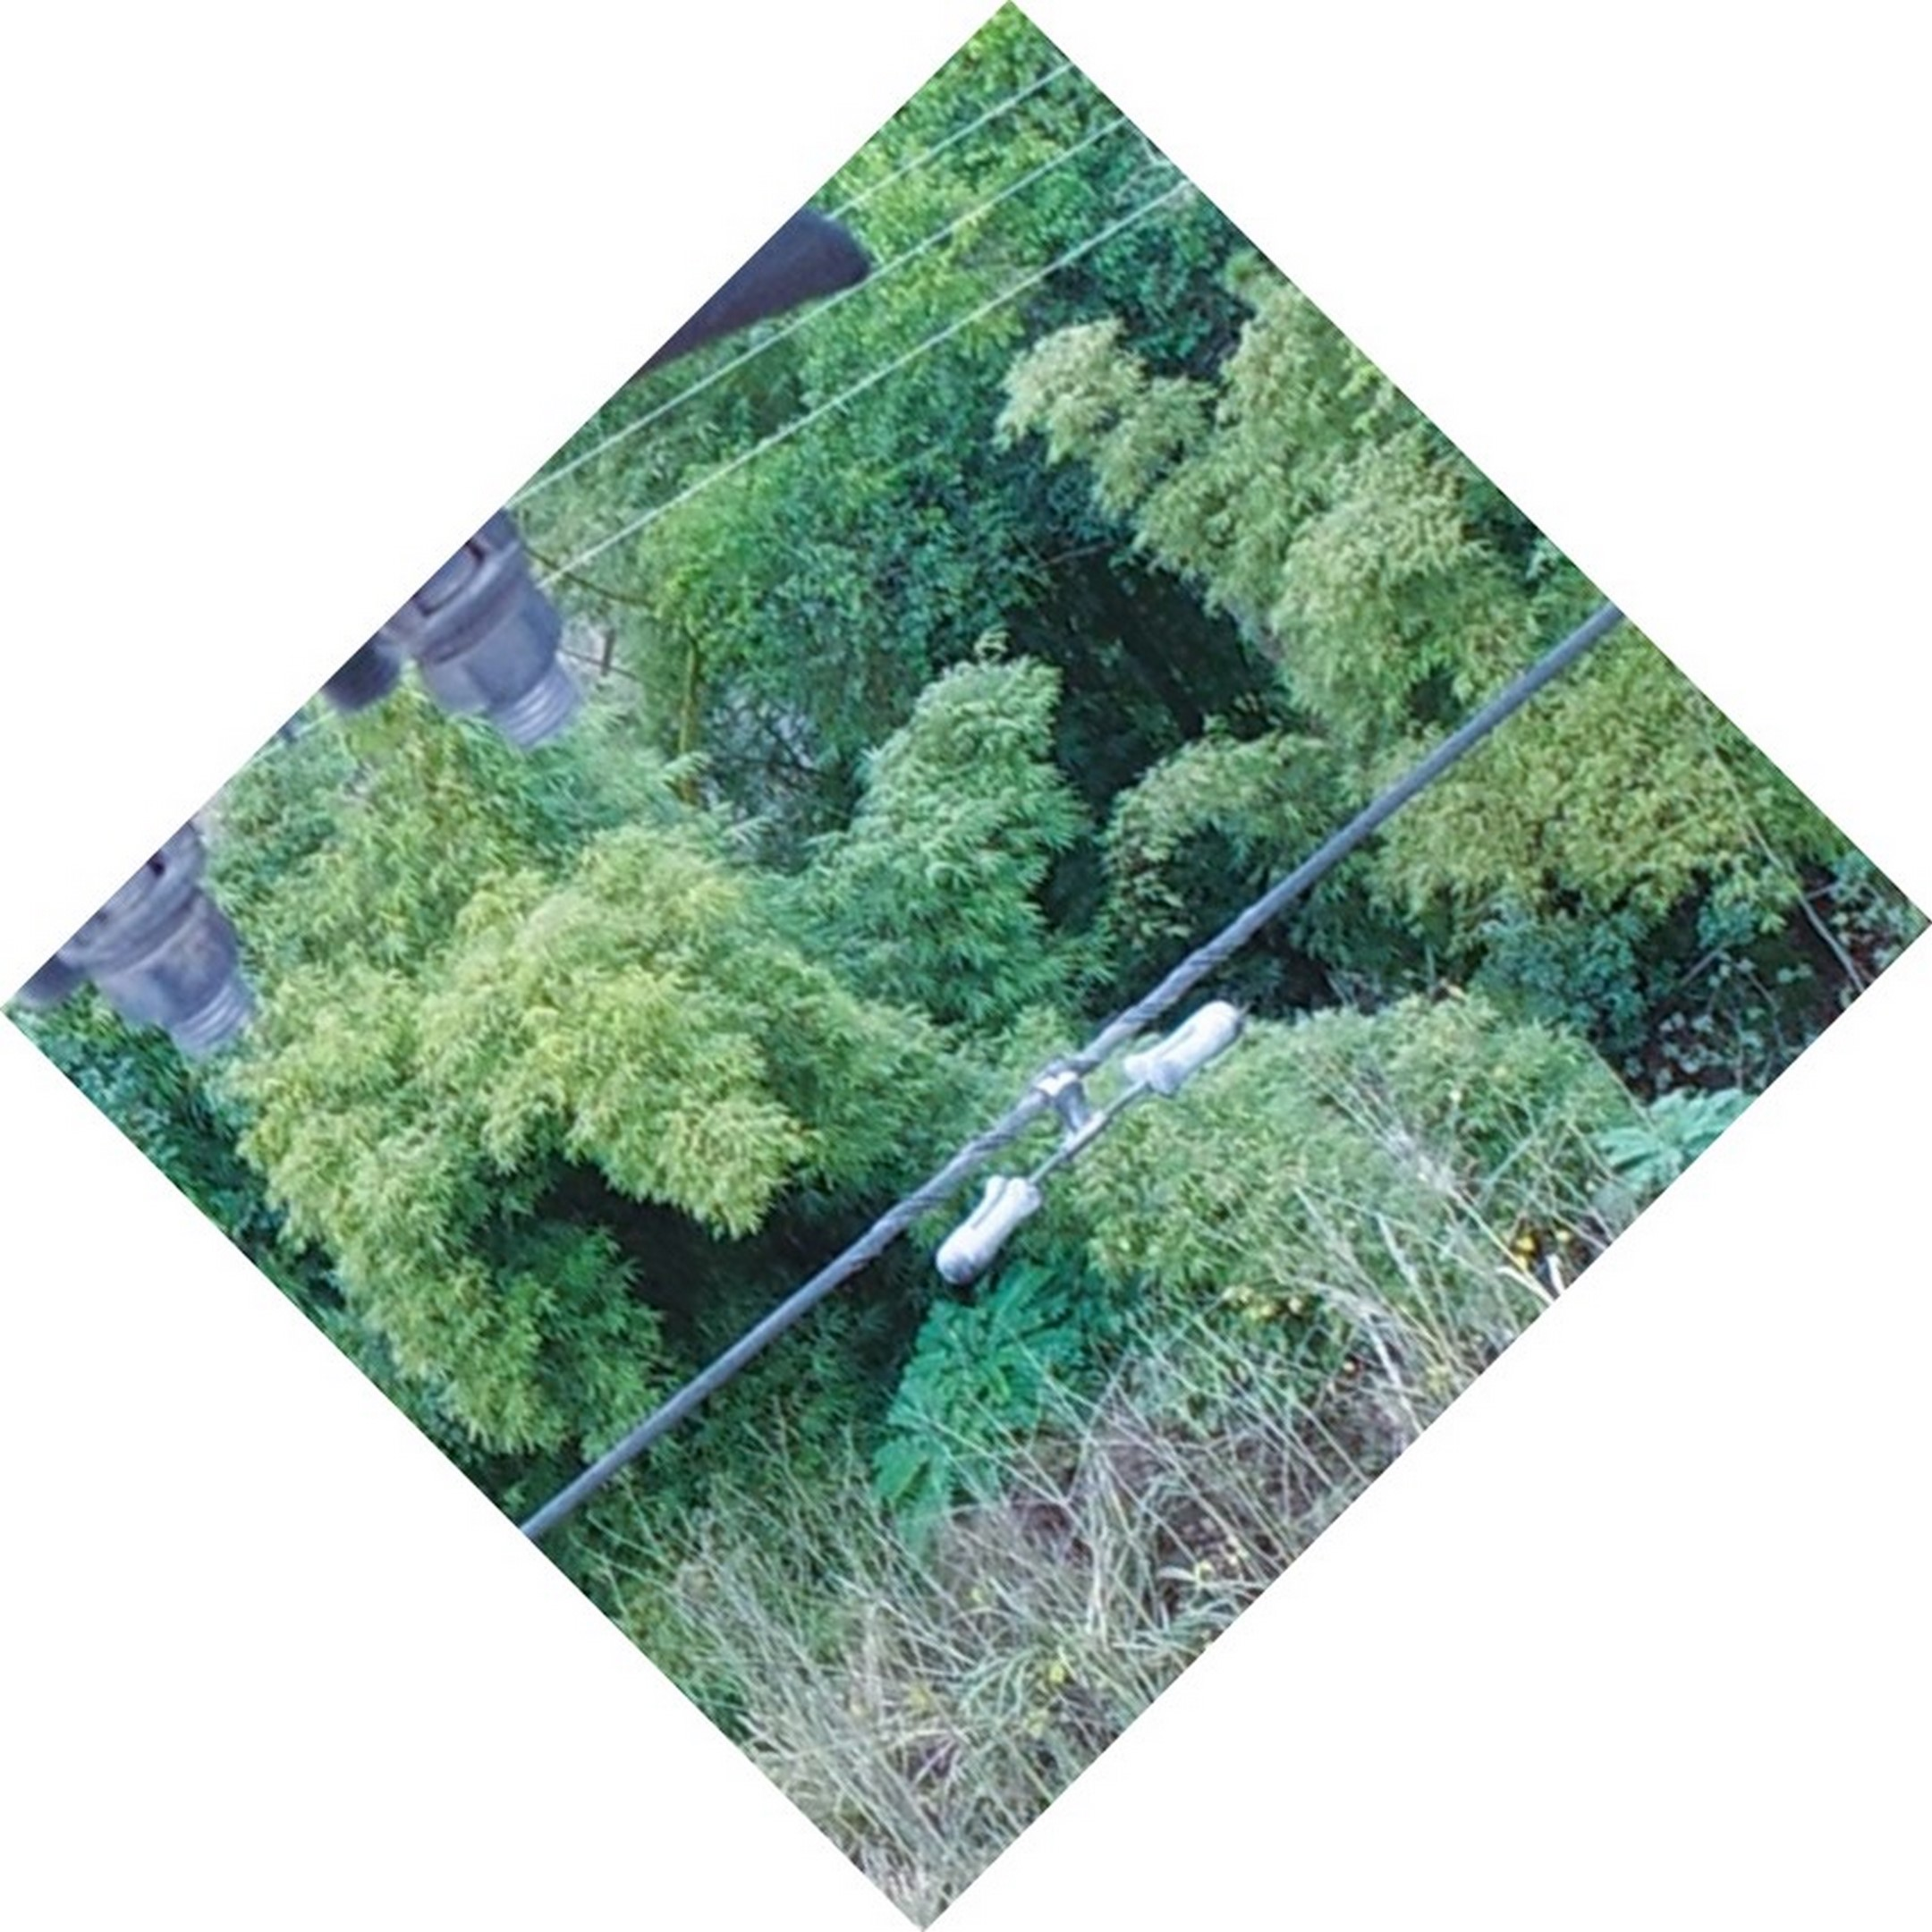Shockproof hammer: (899, 989, 1267, 1307)
